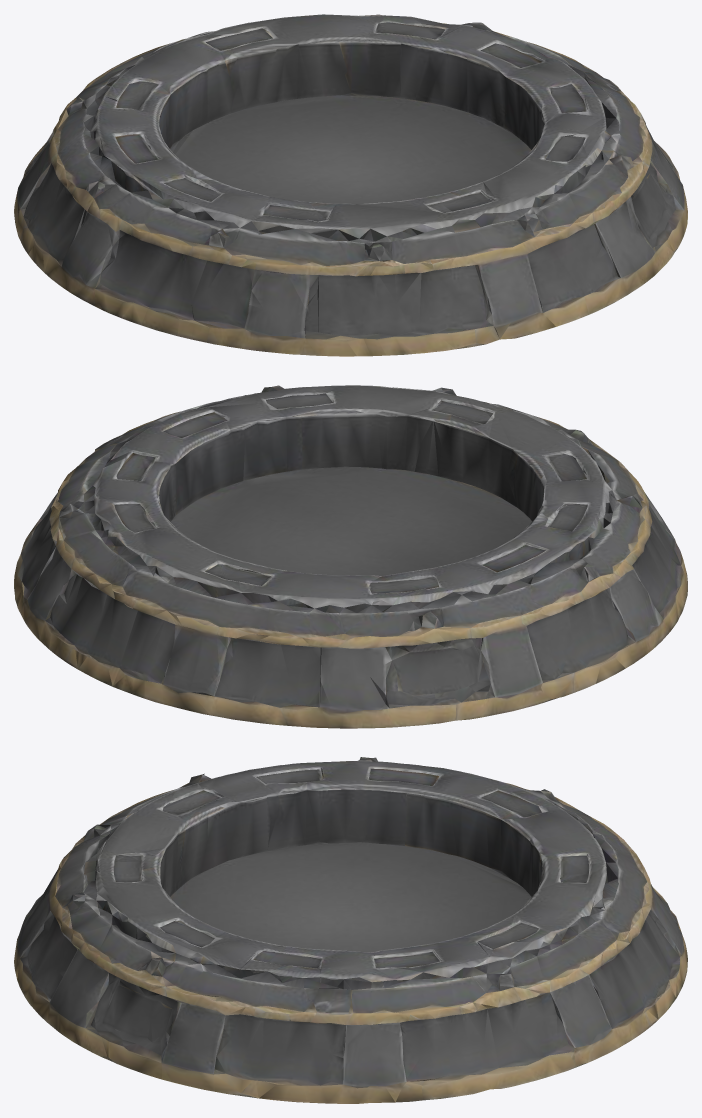
Rendered from imperial_point_defence_turret_lod1.glb.
The picture shows the model from 3 angles, top to bottom: view 1: azimuth 30°, elevation 25°; view 2: azimuth 150°, elevation 25°; view 3: azimuth 270°, elevation 25°; orthographic projection.
Parts seen in each view (by area): view 1: mesh_node; view 2: mesh_node; view 3: mesh_node.
Part boxes in pixels (x1,y1,x2,y2): mesh_node: [14, 14, 687, 356]; mesh_node: [14, 385, 687, 728]; mesh_node: [14, 757, 687, 1103].
Bounding box in the file's own units: 7.62 × 1.17 × 7.62.
1 material, 1 textured.
